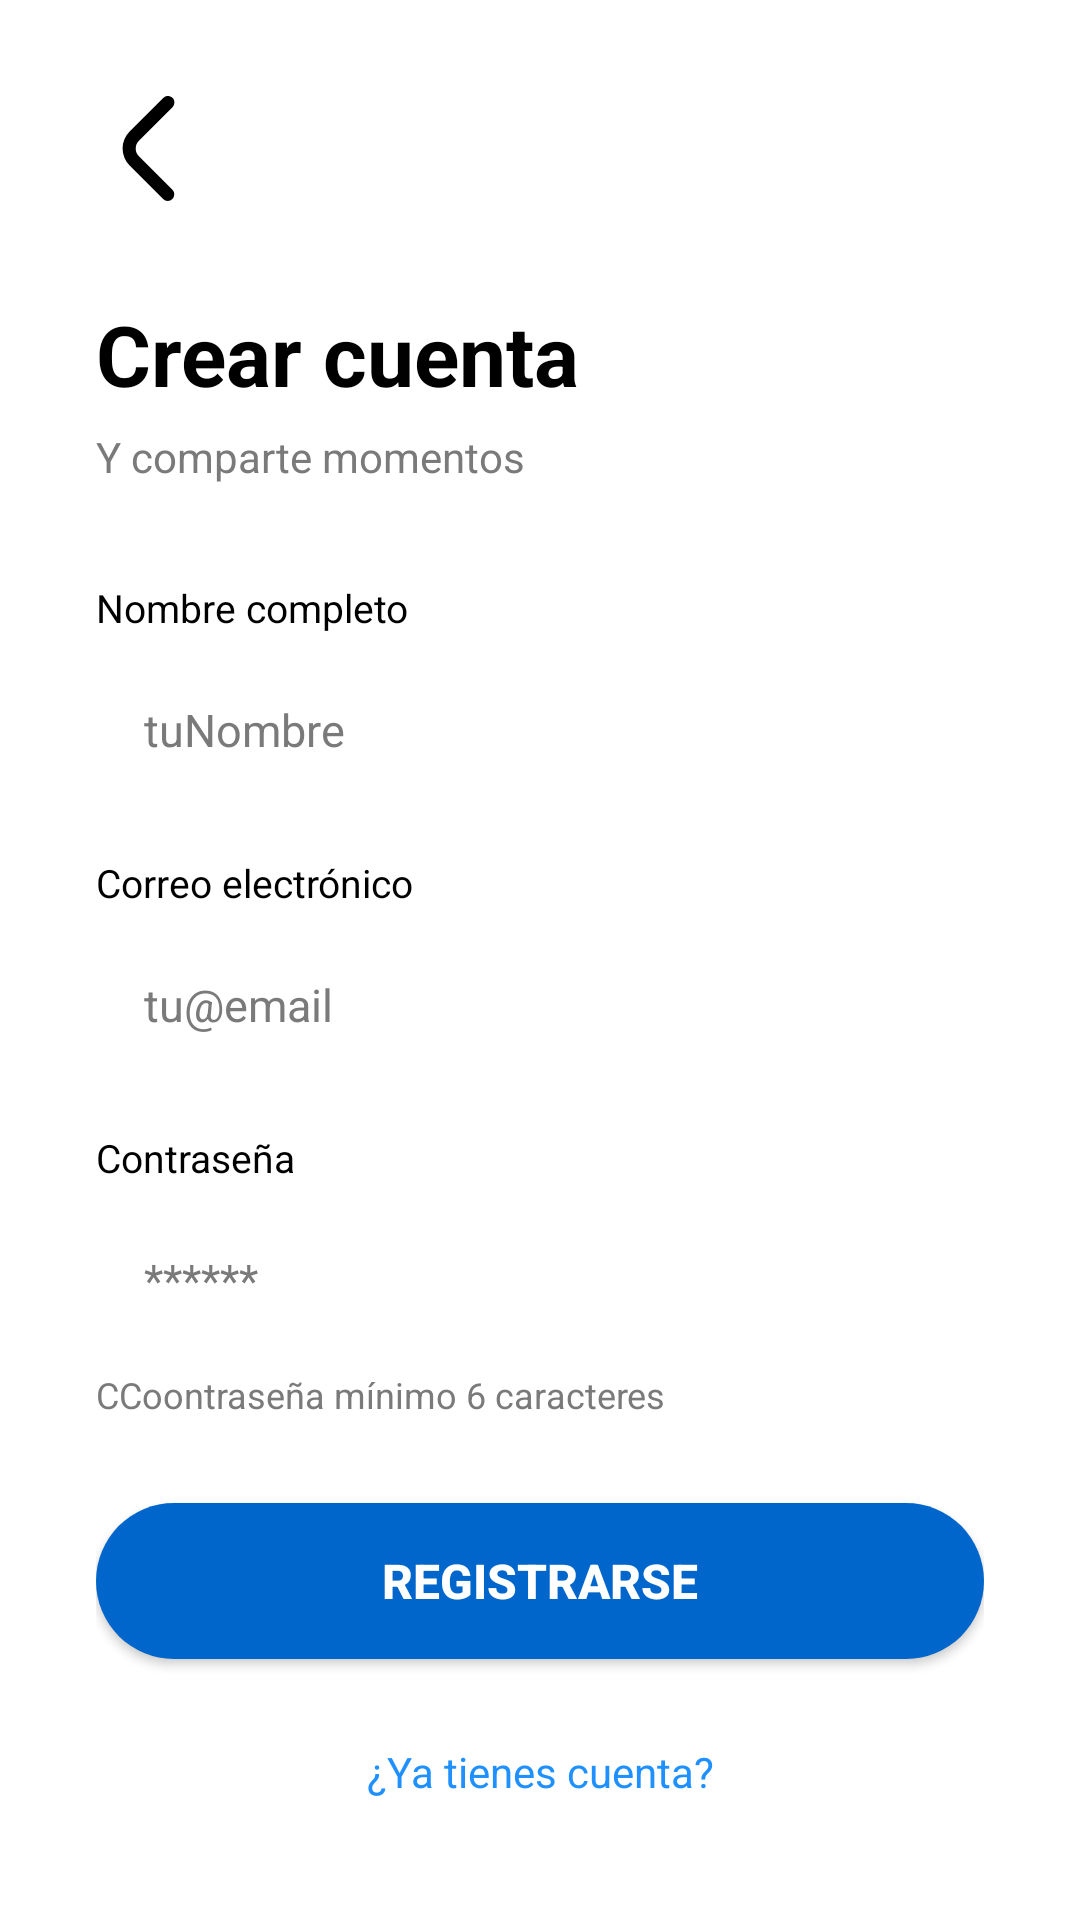

Where to tap for icons on this 1080x1920 app screen, as (x=x, y=y):
back: (x=148, y=148)
